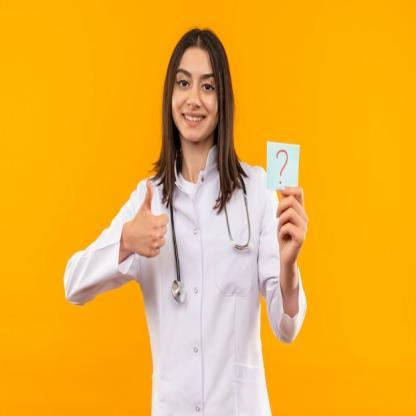thumb_up: (121, 179, 170, 260)
